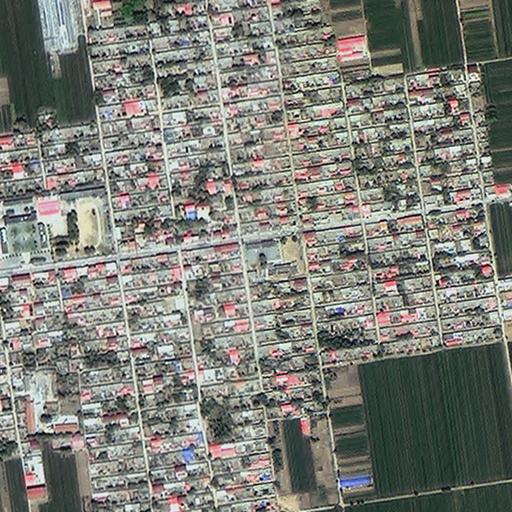school: (39, 185, 110, 261)
